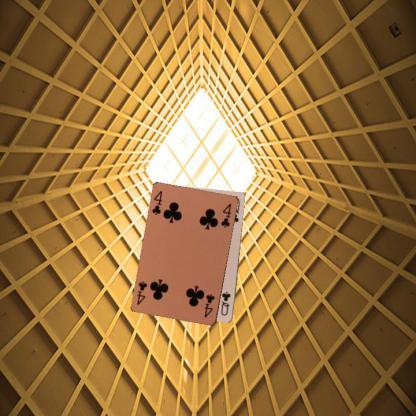4c: (202, 291, 216, 319), (150, 188, 164, 216)
Qc: (218, 290, 232, 317)
